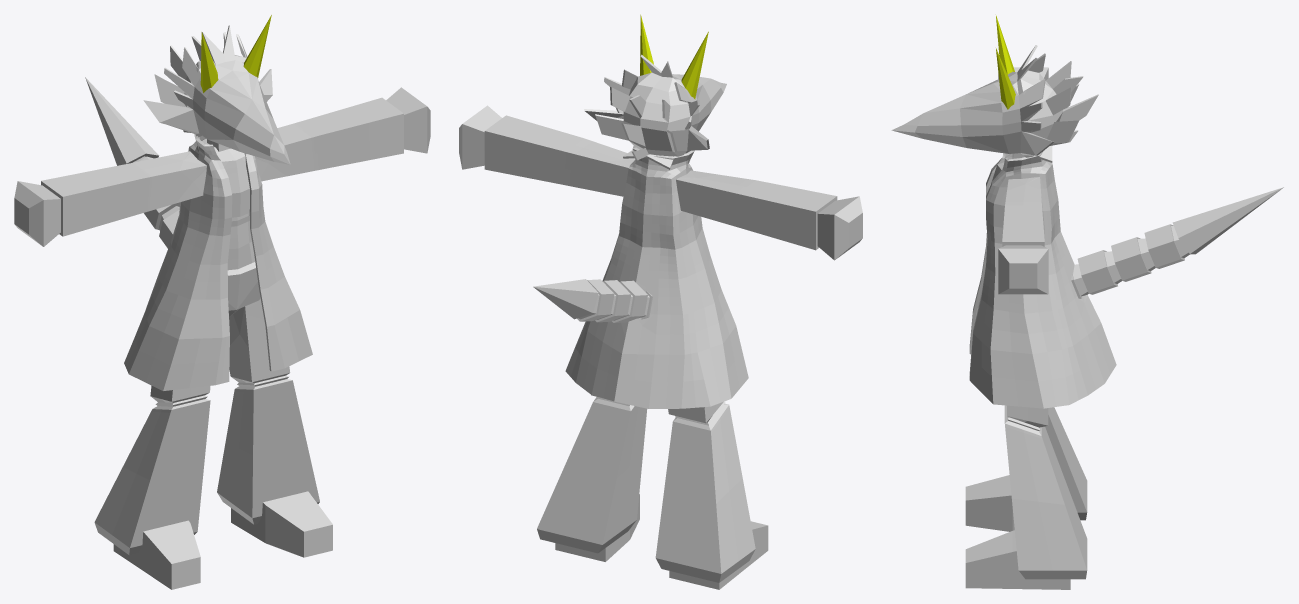
Rendered from drone.fbx.
The picture shows the model from 3 angles, left to right: view 1: azimuth 30°, elevation 25°; view 2: azimuth 150°, elevation 25°; view 3: azimuth 270°, elevation 25°; orthographic projection. The views are drawn at different scales.
Parts seen in each view (by area): view 1: torso.001, helmet.001, hair.001, horns.001; view 2: torso.001, hair.001, helmet.001, horns.001; view 3: torso.001, helmet.001, hair.001, horns.001.
Part boxes in pixels (box(x1,y1,x2,y2)): torso.001: box(14, 77, 430, 589); helmet.001: box(193, 60, 290, 164); hair.001: box(143, 25, 272, 137); horns.001: box(200, 15, 271, 92); torso.001: box(459, 105, 862, 589); hair.001: box(584, 54, 709, 169); helmet.001: box(672, 74, 726, 131); horns.001: box(640, 14, 708, 99); torso.001: box(965, 67, 1283, 589); helmet.001: box(891, 71, 1021, 153); hair.001: box(1017, 45, 1098, 162); horns.001: box(996, 15, 1015, 109).
Size of the model in its own units: 1.93 by 2.47 by 1.69.
